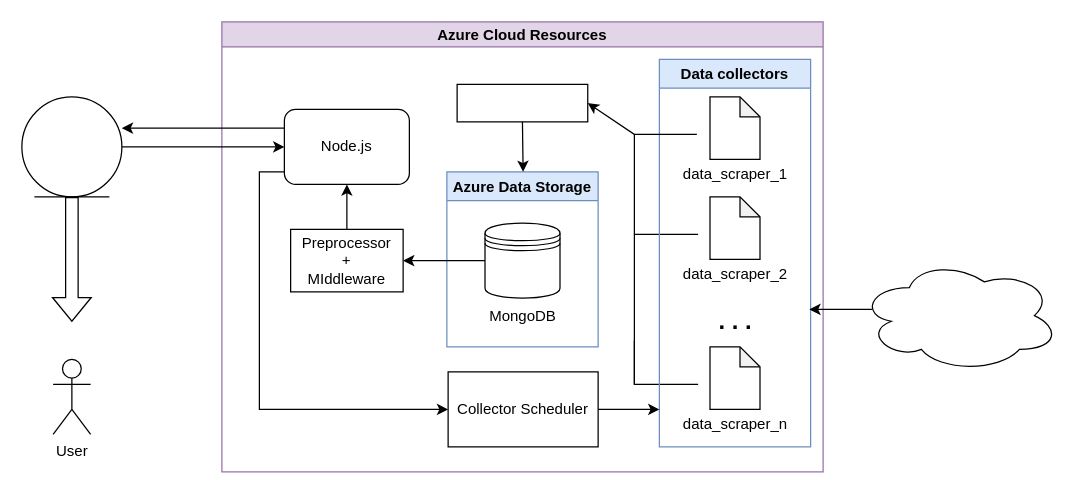
Image size: 1081x494. Some labels were removed from this diagram. Here are the shapes that lost their labels. From the top down, the centre of each, then its label:
[522,102]: Universal Formatter
[71,146]: Browser
[958,315]: External Data Sources
